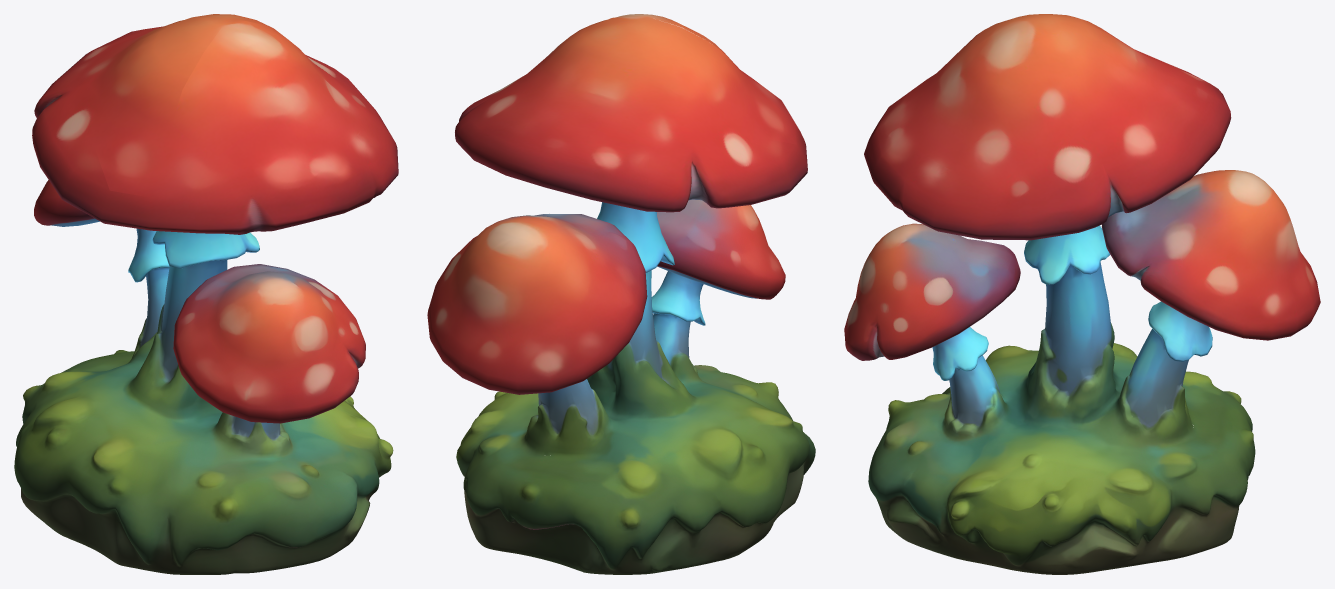
File: 18-mushrooms.glb
The picture shows the model from 3 angles, left to right: view 1: azimuth 30°, elevation 25°; view 2: azimuth 150°, elevation 25°; view 3: azimuth 270°, elevation 25°; orthographic projection. The views are drawn at different scales.
Parts seen in each view (by area): view 1: tripo_node_870ca1d3-8803-447a-9d76-3b3535ce9cae; view 2: tripo_node_870ca1d3-8803-447a-9d76-3b3535ce9cae; view 3: tripo_node_870ca1d3-8803-447a-9d76-3b3535ce9cae.
Boxes of the visible parts, bbox=[...] form: tripo_node_870ca1d3-8803-447a-9d76-3b3535ce9cae: bbox=[14, 14, 398, 574]; tripo_node_870ca1d3-8803-447a-9d76-3b3535ce9cae: bbox=[427, 14, 815, 574]; tripo_node_870ca1d3-8803-447a-9d76-3b3535ce9cae: bbox=[844, 14, 1320, 574].
Bounding box in the file's own units: 0.6987 × 0.9995 × 0.8862.
Materials: 1 (1 with a texture image).
